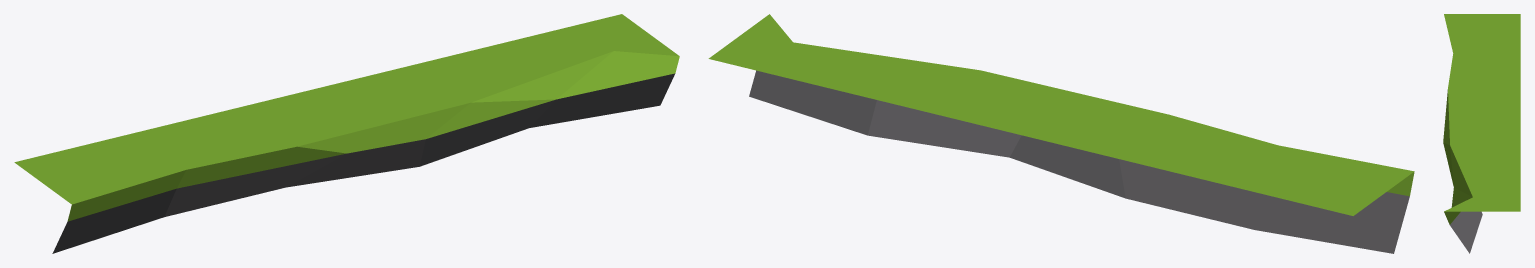
The model's file is mesh_nature_cliff_edge_02.fbx.
The picture shows the model from 3 angles, left to right: view 1: azimuth 30°, elevation 25°; view 2: azimuth 150°, elevation 25°; view 3: azimuth 270°, elevation 25°; orthographic projection. The views are drawn at different scales.
Visible parts, largest first — view 1: mesh_nature_cliff_edge_02; view 2: mesh_nature_cliff_edge_02; view 3: mesh_nature_cliff_edge_02.
Part boxes in pixels (x1,y1,x2,y2): mesh_nature_cliff_edge_02: [14, 14, 679, 253]; mesh_nature_cliff_edge_02: [708, 14, 1414, 253]; mesh_nature_cliff_edge_02: [1443, 14, 1520, 253].
Size of the model in its own units: 200 by 20 by 33.21.
